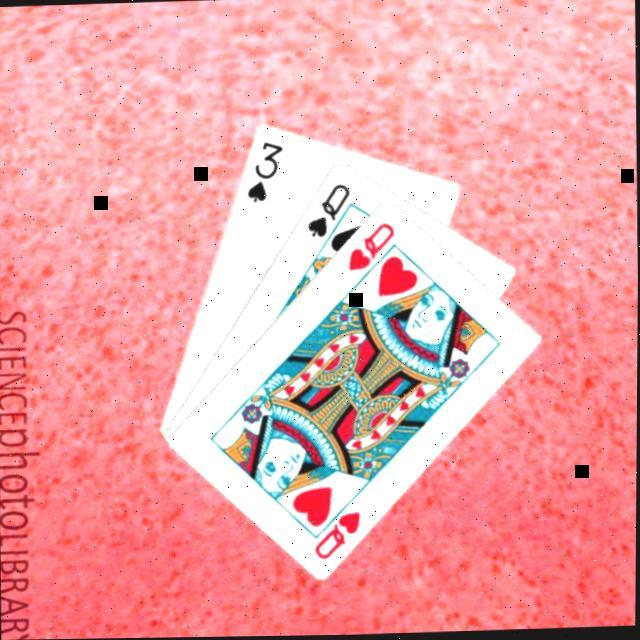3S: (245, 135, 288, 204)
QH: (312, 490, 366, 561), (345, 216, 400, 272)
QS: (305, 178, 355, 240)
